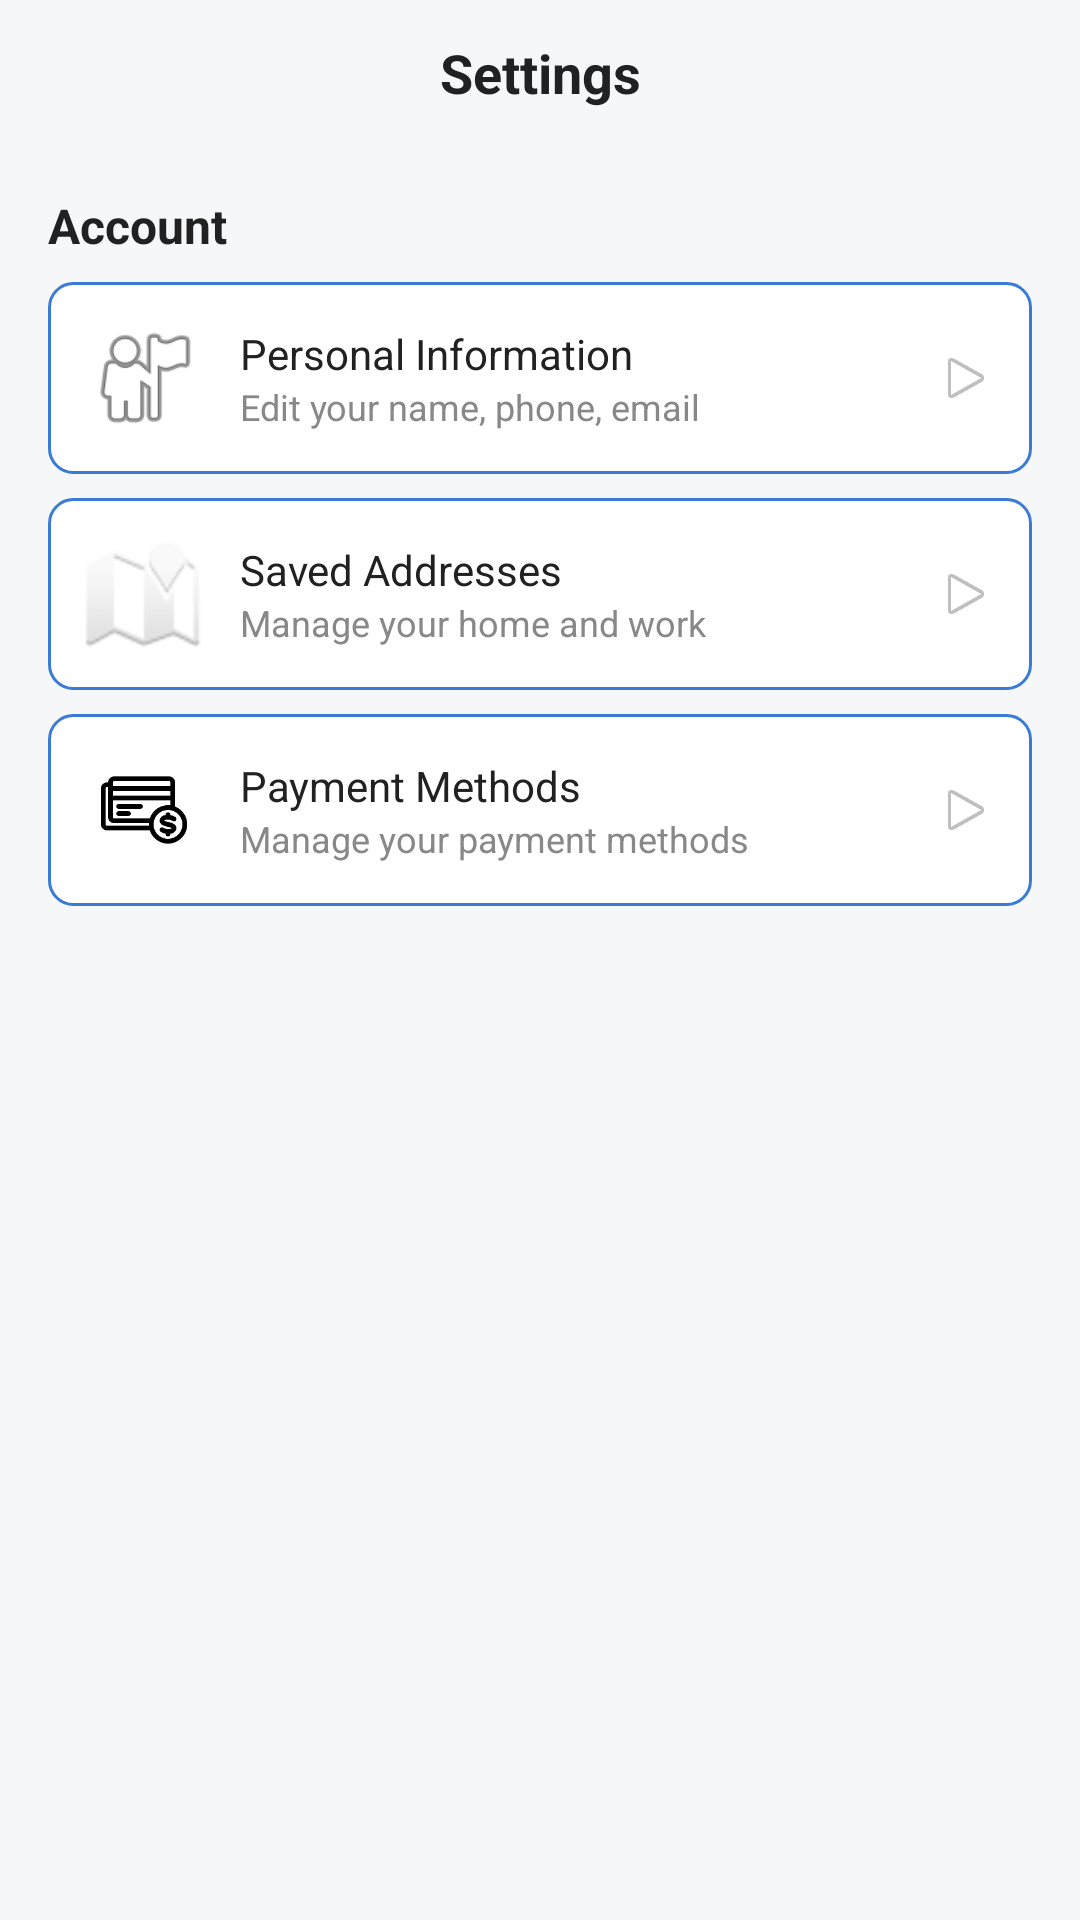

Icon click points for this 1080px x 1920px phone screenshot, format [x,y]:
Arrow: [966,378], [966,594], [966,810]
